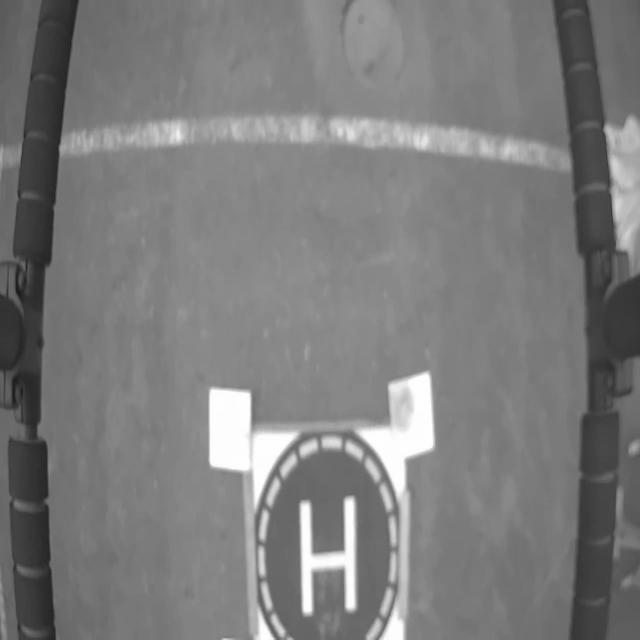Helipad: (299, 496, 358, 619)
